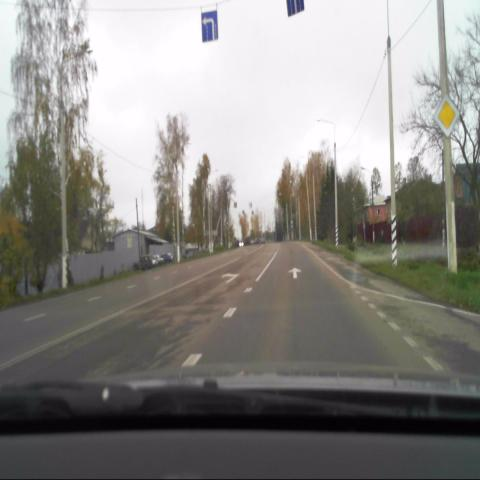2_1: (434, 93, 460, 138)
5_15_2: (201, 11, 219, 43)
